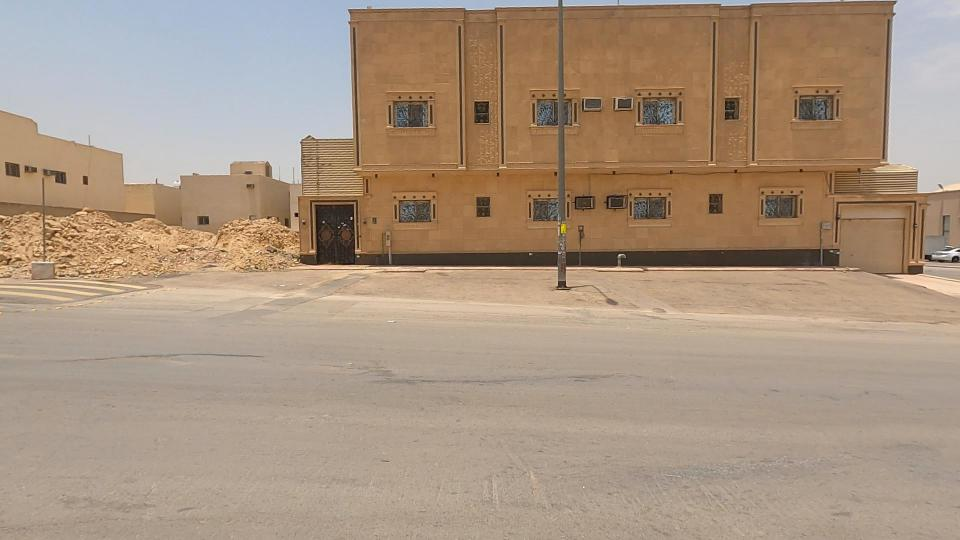SAND_ON_ROAD: (10, 190, 204, 332), (181, 215, 315, 303)
